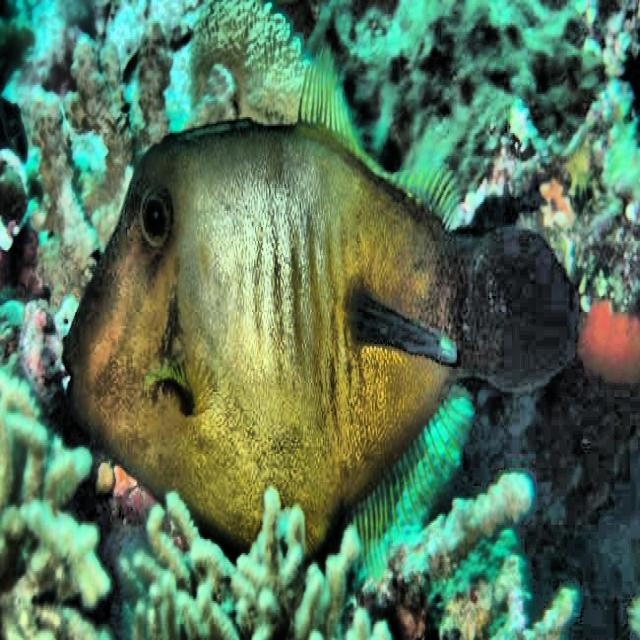fish: (62, 25, 562, 587)
